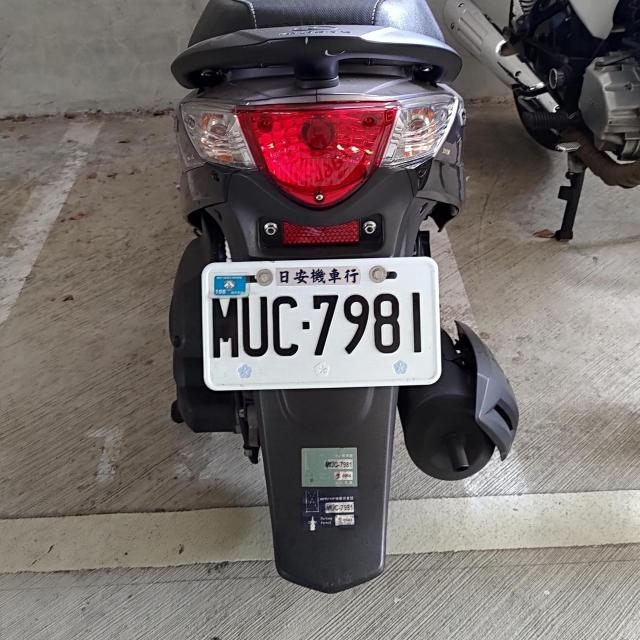W: (201, 254, 440, 389)
